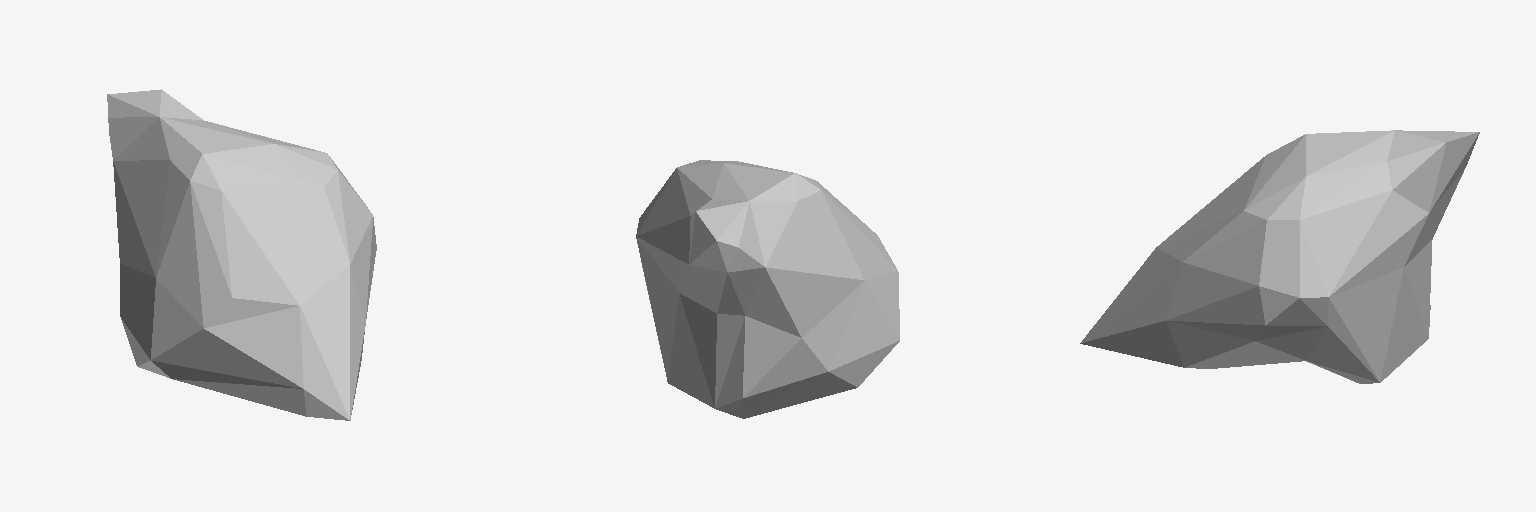
File: stone.obj
3 views of the same model, side by side, from view 1: azimuth 30°, elevation 25°; view 2: azimuth 150°, elevation 25°; view 3: azimuth 270°, elevation 25° (orthographic).
Visible parts, largest first — view 1: model_rock_Plane.005; view 2: model_rock_Plane.005; view 3: model_rock_Plane.005.
Part boxes in pixels (x1,y1,x2,y2): model_rock_Plane.005: (107, 89, 376, 420); model_rock_Plane.005: (636, 160, 899, 418); model_rock_Plane.005: (1080, 130, 1479, 383).
Size of the model in its own units: 0.5971 by 0.5199 by 0.8711.